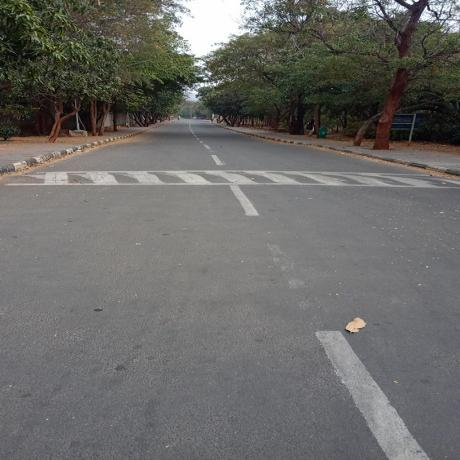Speed Bump: (14, 170, 459, 189)
